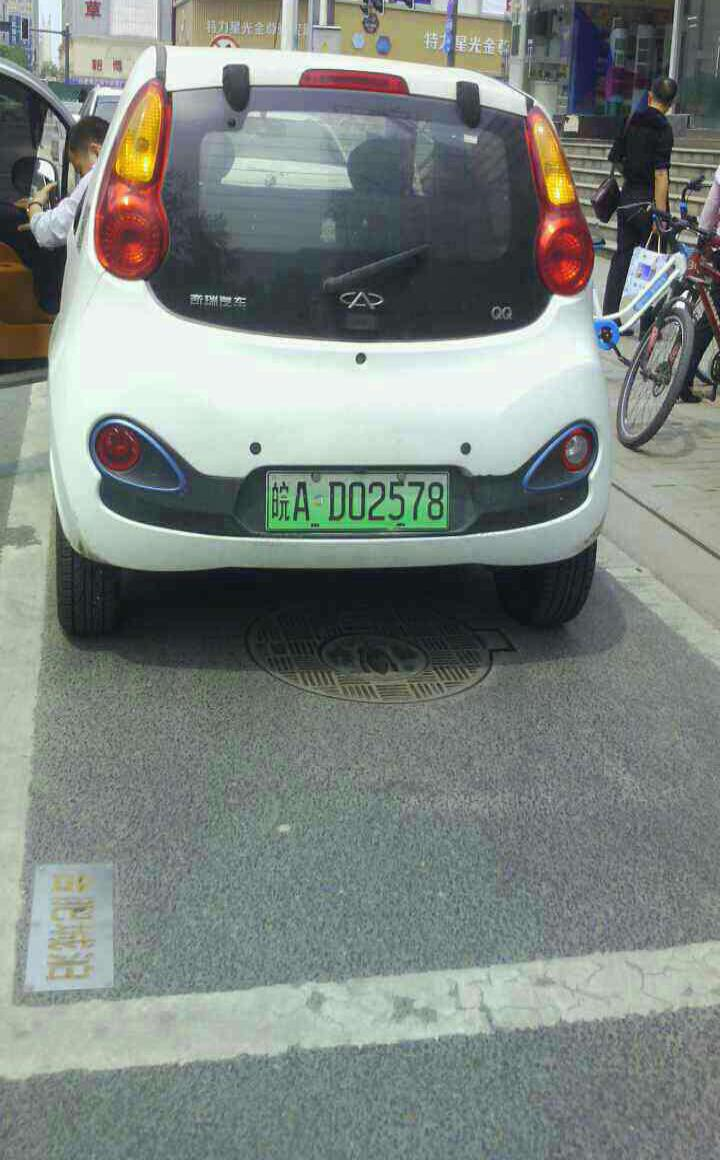car: (254, 470, 464, 536)
